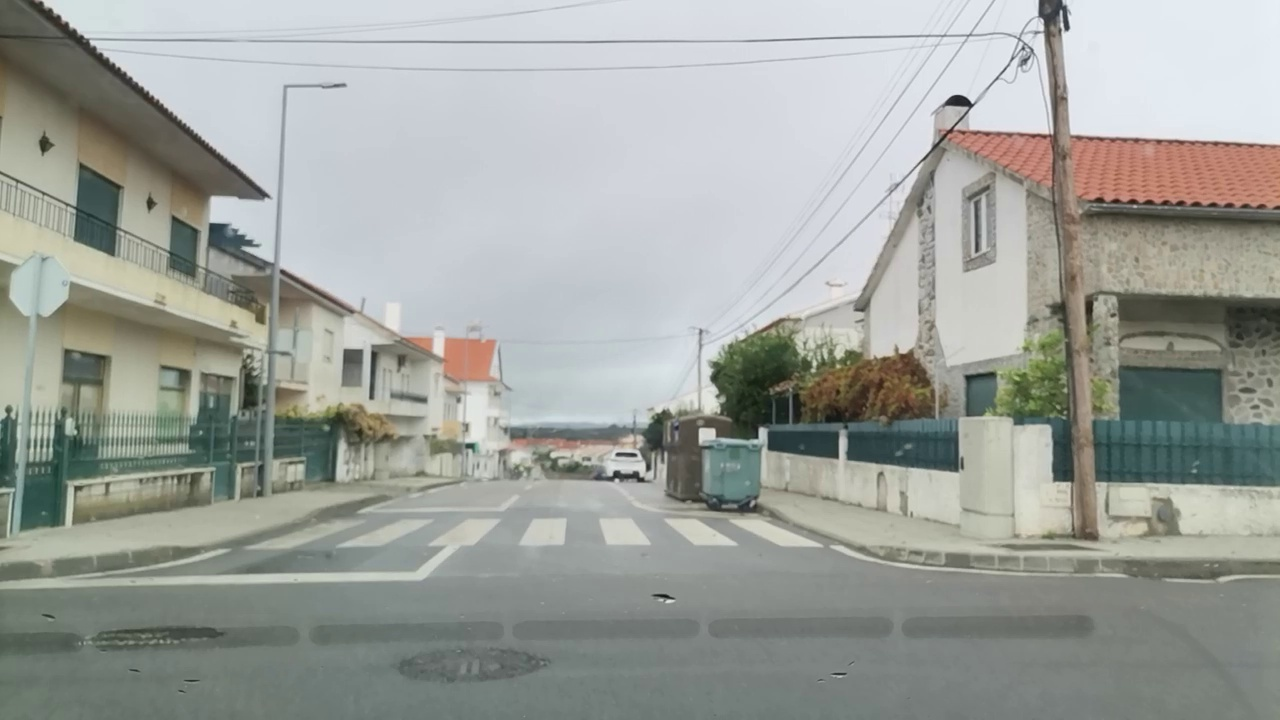Stairs: (248, 517, 826, 552)
